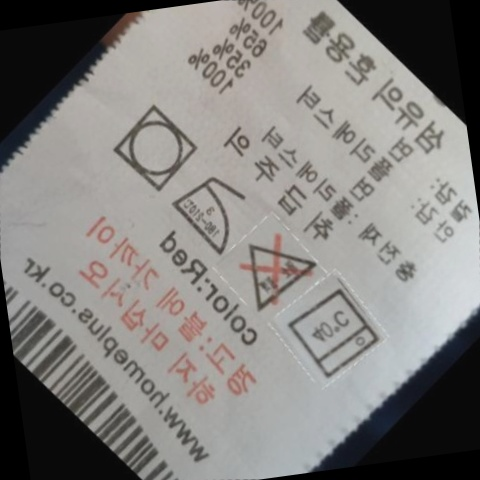40C: (276, 282, 382, 384)
iron_high: (163, 163, 248, 258)
non_chlorine_bleach: (226, 223, 319, 316)
tumble_dry_normal: (98, 91, 206, 205)
